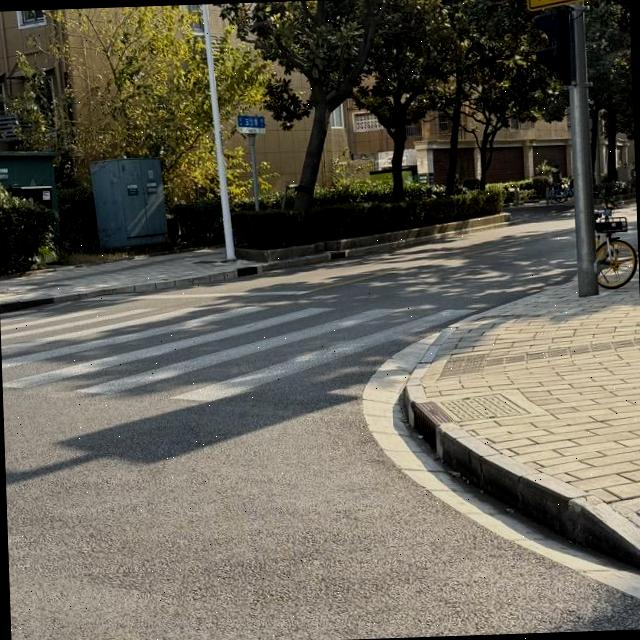curb: (401, 329, 640, 567), (0, 222, 509, 313), (237, 213, 507, 261)
